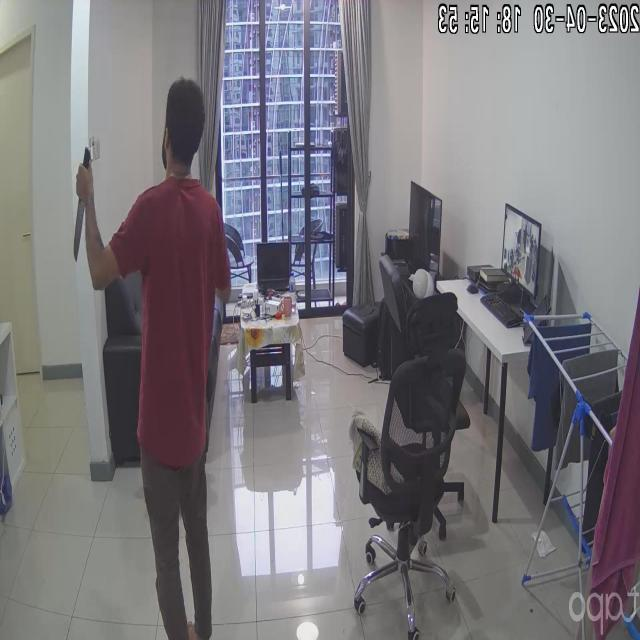Knife: (63, 147, 99, 260)
